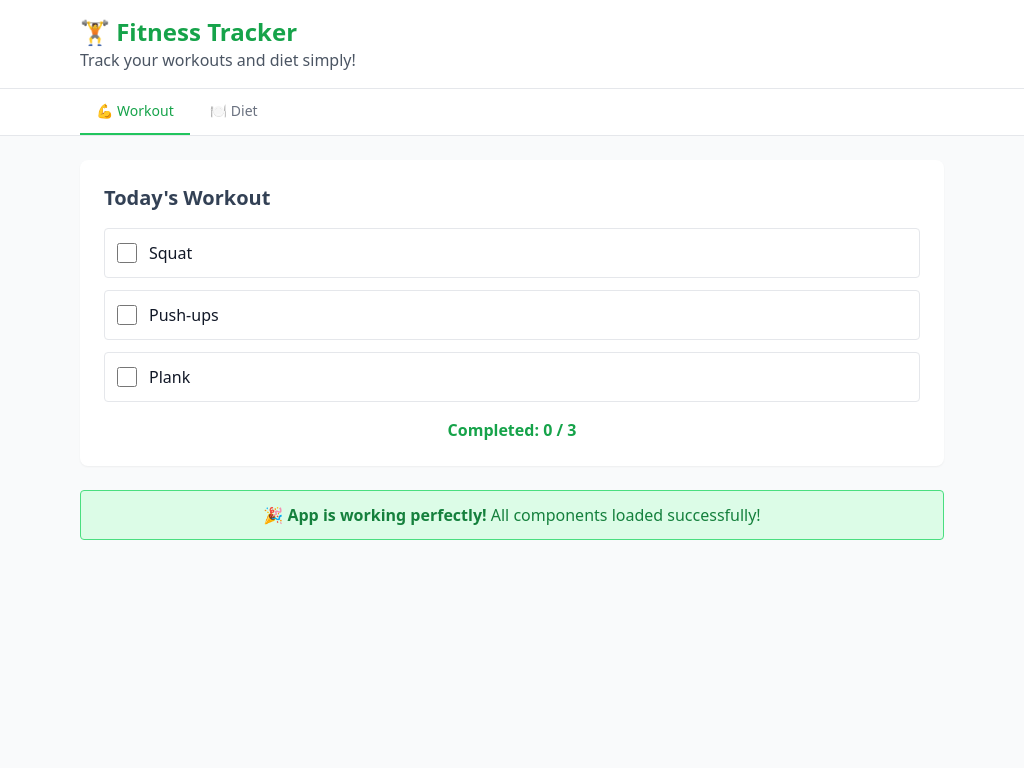
SimpleApp › toggles exercise completion
The width and height of the screenshot is (1024, 768).
Click the checkbox named "Mark Squat as completed" at (127, 253), box [117,243,137,263]
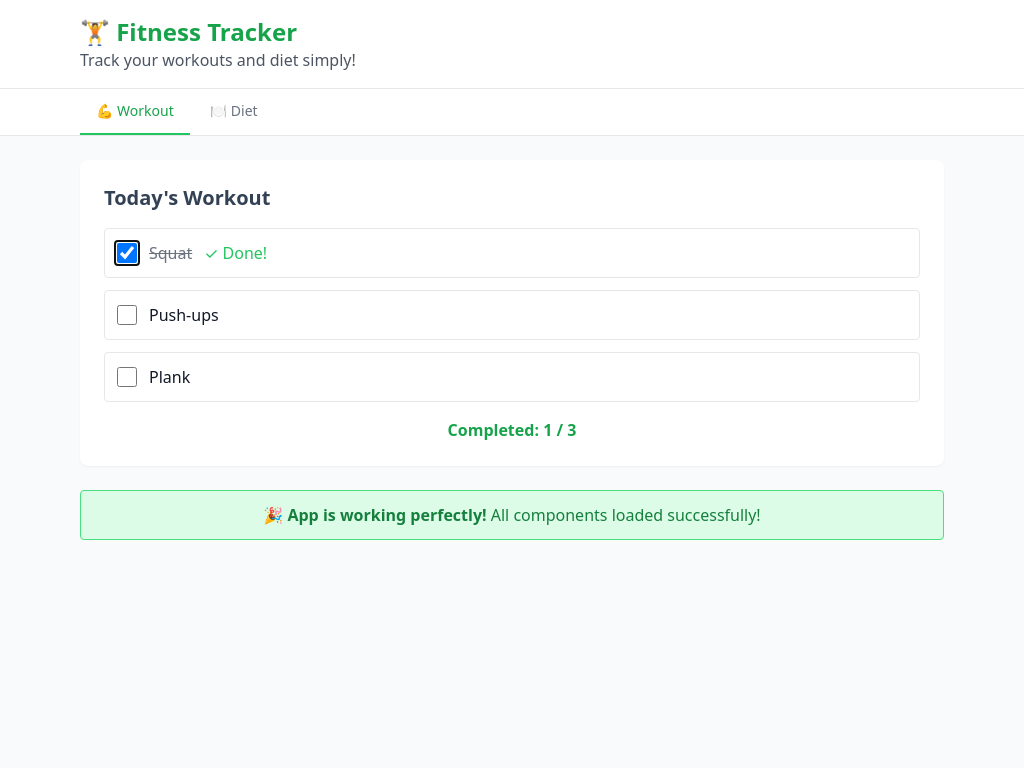
Expected: the checkbox named "Mark Squat as completed" is checked, [117,243,137,263]
Expected: the text "✓ Done!" is shown, [204,241,267,265]
